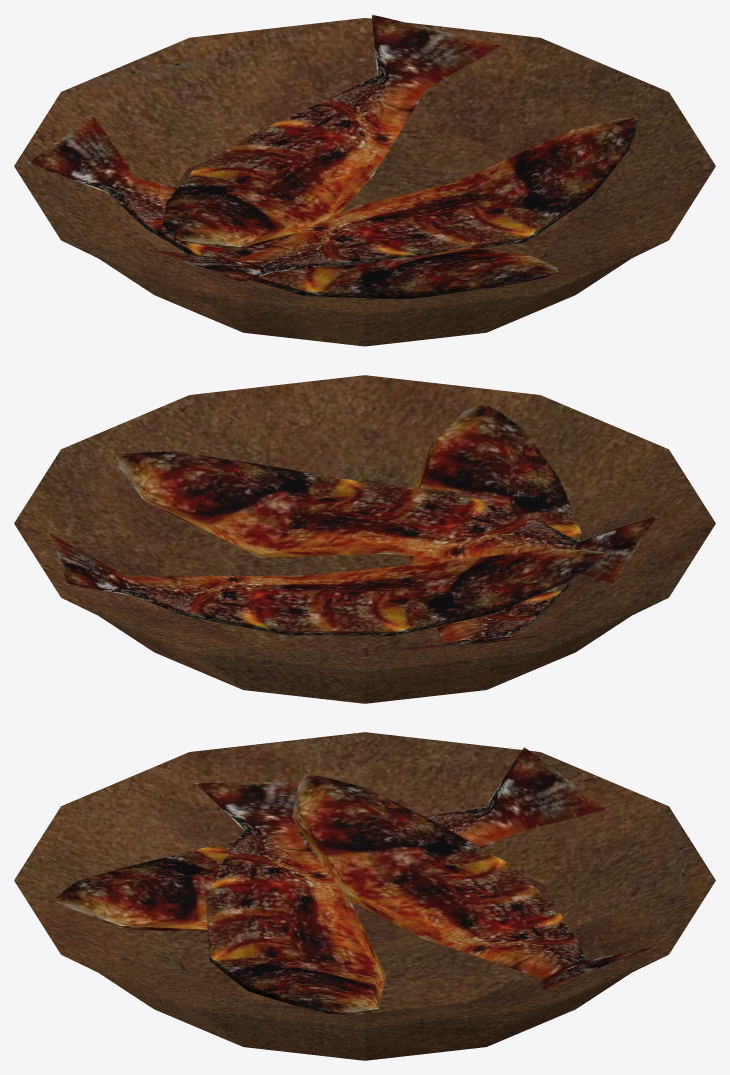
Rendered from ITFO_FRIEDFISHSKINS.glb.
3 renders of one model, top to bottom at view 1: azimuth 30°, elevation 25°; view 2: azimuth 150°, elevation 25°; view 3: azimuth 270°, elevation 25°, orthographic.
Parts seen in each view (by area): view 1: ITFO_FRIEDFISHSKINS; view 2: ITFO_FRIEDFISHSKINS; view 3: ITFO_FRIEDFISHSKINS.
Boxes of the visible parts, x1,y1,x2,y2 form: ITFO_FRIEDFISHSKINS: (14,14,715,346); ITFO_FRIEDFISHSKINS: (14,375,715,703); ITFO_FRIEDFISHSKINS: (14,732,715,1060).
Bounding box in the file's own units: 0.3559 × 0.0479 × 0.3559.
Materials: 2 (2 with a texture image).
